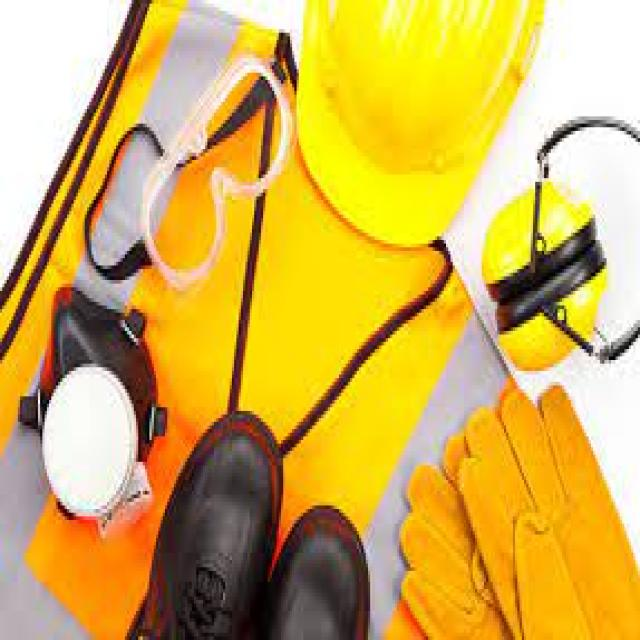glasses: (125, 52, 296, 296)
